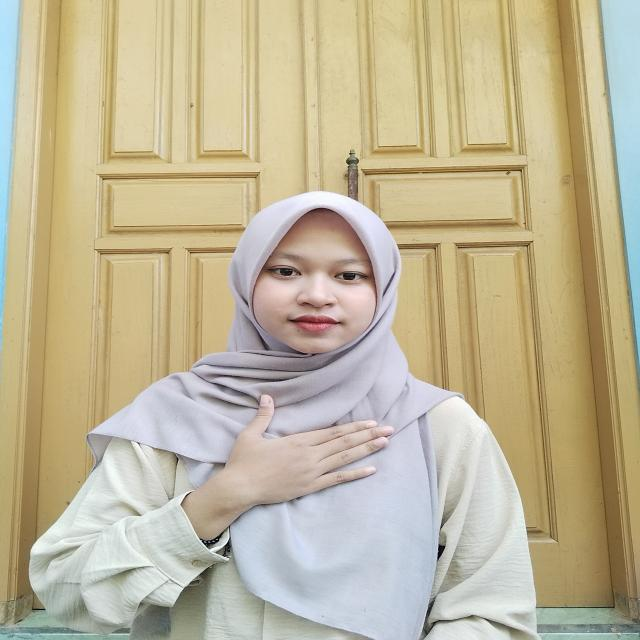tolong: (183, 389, 402, 536)
